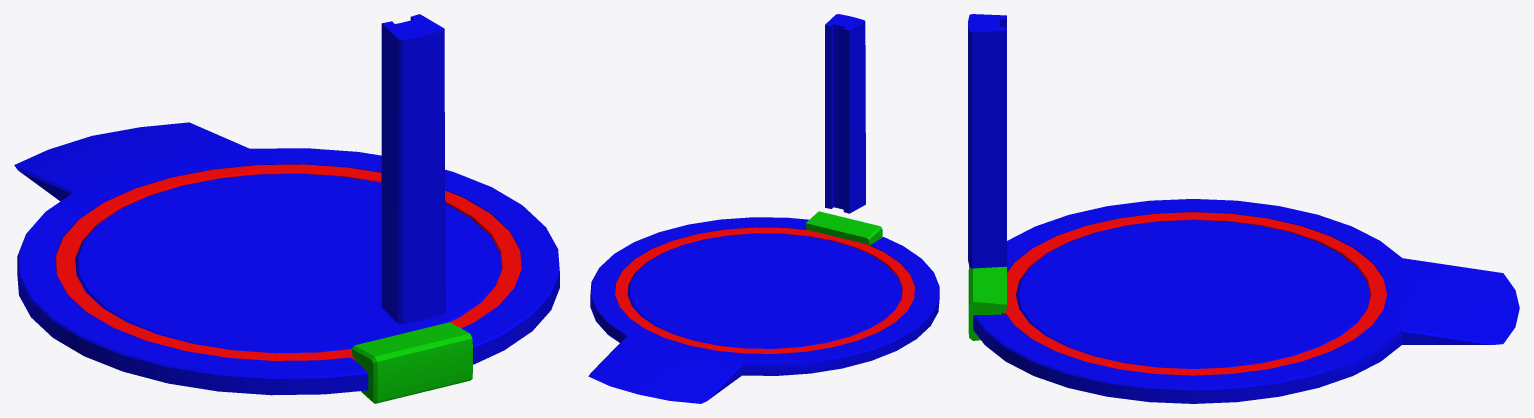
Rendered from ScifiElevator.fbx.
3 views of the same model, side by side, from view 1: azimuth 30°, elevation 25°; view 2: azimuth 150°, elevation 25°; view 3: azimuth 270°, elevation 25° (orthographic). The views are drawn at different scales.
Parts seen in each view (by area): view 1: Cylinder, Cylinder.002, Cylinder.001, Cylinder.003; view 2: Cylinder, Cylinder.002, Cylinder.001, Cylinder.003; view 3: Cylinder.002, Cylinder, Cylinder.001, Cylinder.003.
Boxes of the visible parts, bbox=[...] form: Cylinder: bbox=[14, 14, 559, 395]; Cylinder.002: bbox=[75, 174, 501, 353]; Cylinder.001: bbox=[55, 164, 521, 361]; Cylinder.003: bbox=[352, 322, 472, 403]; Cylinder: bbox=[588, 14, 939, 403]; Cylinder.002: bbox=[627, 233, 902, 348]; Cylinder.001: bbox=[615, 227, 914, 353]; Cylinder.003: bbox=[805, 211, 882, 245]; Cylinder.002: bbox=[1016, 220, 1370, 368]; Cylinder: bbox=[968, 14, 1519, 403]; Cylinder.001: bbox=[1000, 212, 1386, 375]; Cylinder.003: bbox=[968, 266, 1006, 340].
Size of the model in its own units: 958 by 697 by 1170.
